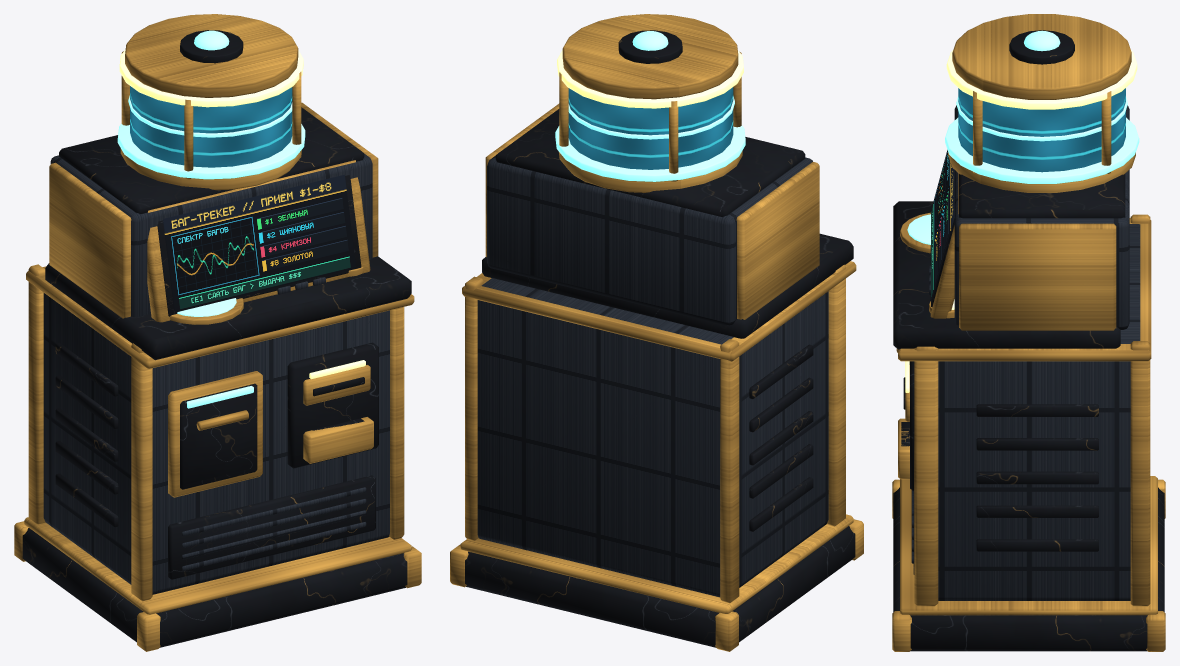
The model's file is prop_bug_terminal.glb.
3 views of the same model, side by side, from view 1: azimuth 30°, elevation 25°; view 2: azimuth 150°, elevation 25°; view 3: azimuth 270°, elevation 25° (orthographic). The views are drawn at different scales.
Parts seen in each view (by area): view 1: Base_Plinth_Core; view 2: Base_Plinth_Core; view 3: Base_Plinth_Core.
Boxes of the visible parts, box(x1,y1,x2,y2) form: Base_Plinth_Core: box(14, 14, 421, 651); Base_Plinth_Core: box(450, 14, 863, 651); Base_Plinth_Core: box(892, 14, 1165, 651).
Bounding box in the file's own units: 0.75 × 1.38 × 0.62.
Materials: 7 (5 with a texture image).
